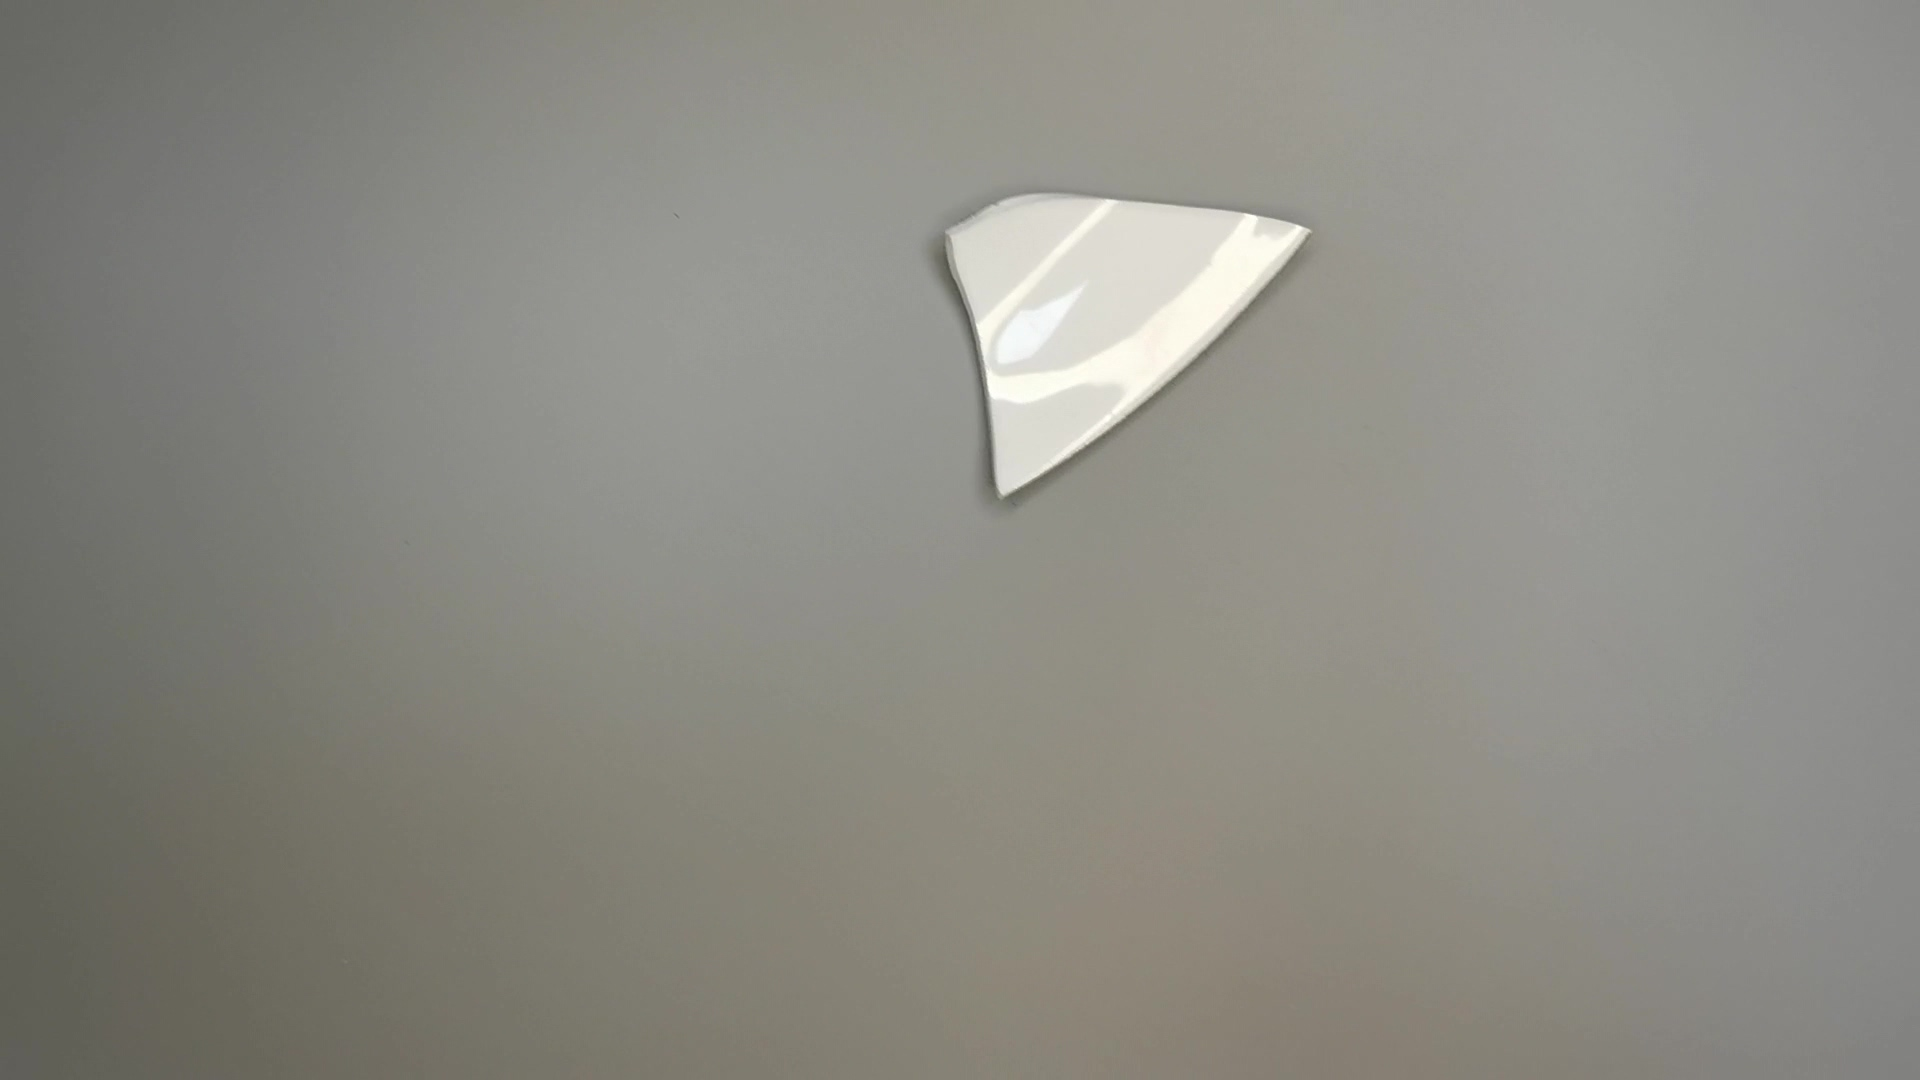ceramic: (938, 189, 1327, 501)
